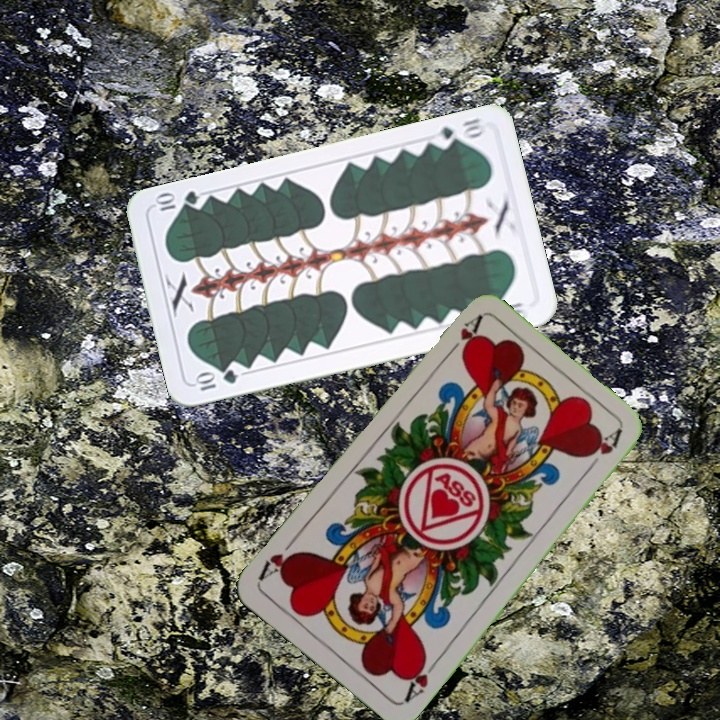G10: (429, 114, 489, 151), (191, 365, 240, 394)
HA: (400, 652, 442, 705), (440, 312, 484, 361)
